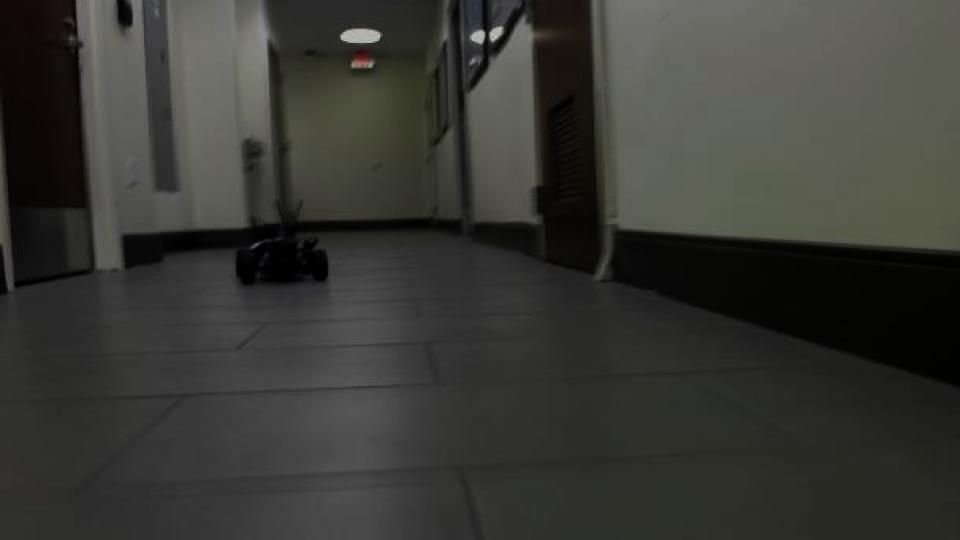car: (233, 197, 334, 287)
